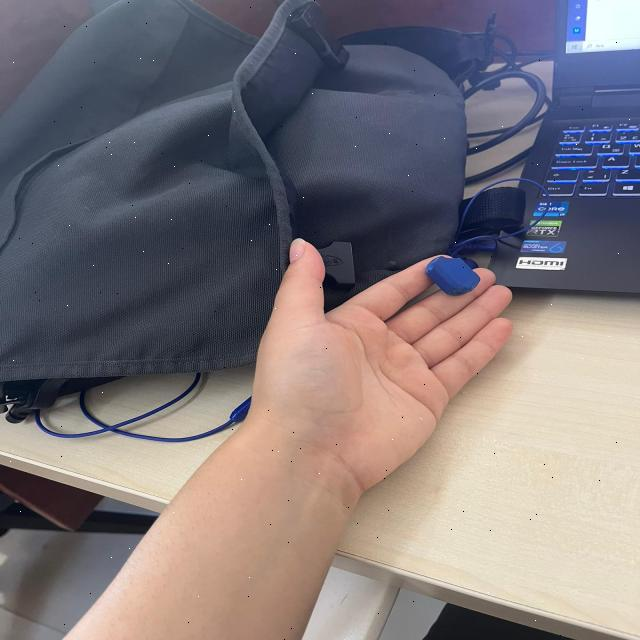eraser: (420, 250, 481, 300)
